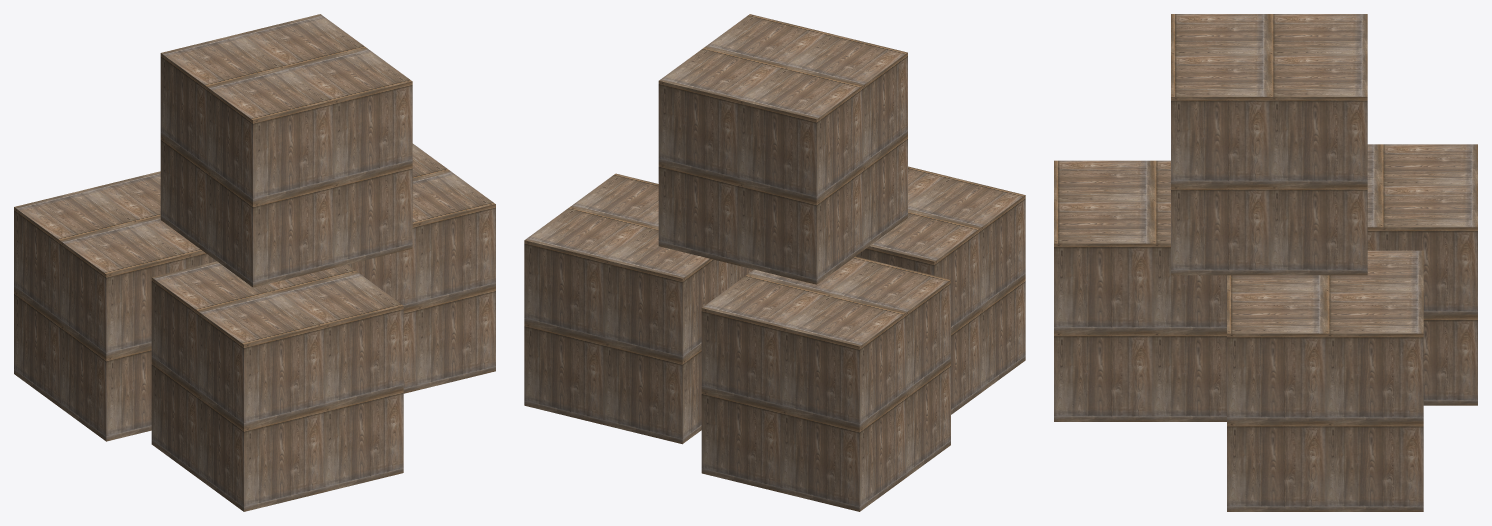
Rendered from boxcluster.obj.
The picture shows the model from 3 angles, left to right: view 1: azimuth 30°, elevation 25°; view 2: azimuth 150°, elevation 25°; view 3: azimuth 270°, elevation 25°; orthographic projection. The views are drawn at different scales.
Visible parts, largest first — view 1: box 4, box 2, box, box 3; view 2: box 4, box, box 3, box 2; view 3: box 4, box 3, box 2, box.
Part boxes in pixels (x1,y1,x2,y2): box 4: [160, 14, 412, 287]; box 2: [151, 261, 403, 511]; box: [14, 171, 216, 441]; box 3: [347, 143, 495, 393]; box 4: [658, 14, 907, 284]; box: [701, 256, 950, 511]; box 3: [524, 173, 753, 444]; box 2: [856, 166, 1025, 414]; box 4: [1171, 14, 1367, 275]; box 3: [1227, 250, 1423, 511]; box 2: [1054, 160, 1226, 421]; box: [1367, 144, 1477, 405].
Bounding box in the file's own units: 4.56 × 4.02 × 4.31.
